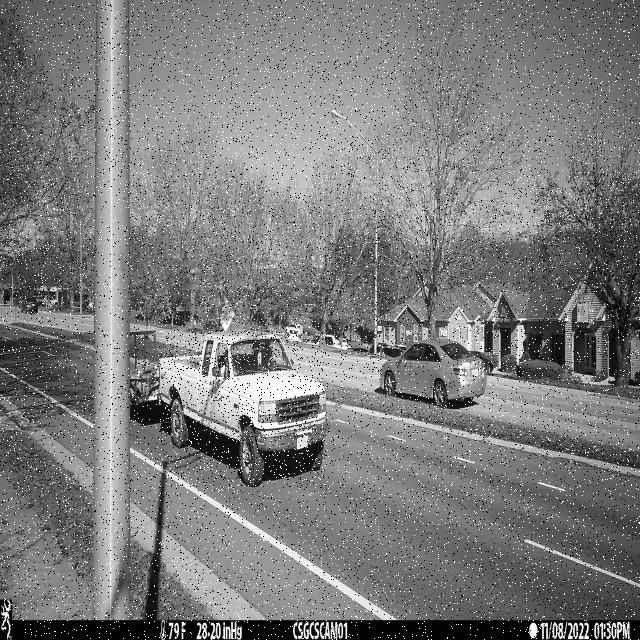Pickup: (159, 330, 329, 488)
